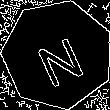N_NW: (29, 24, 86, 86)
